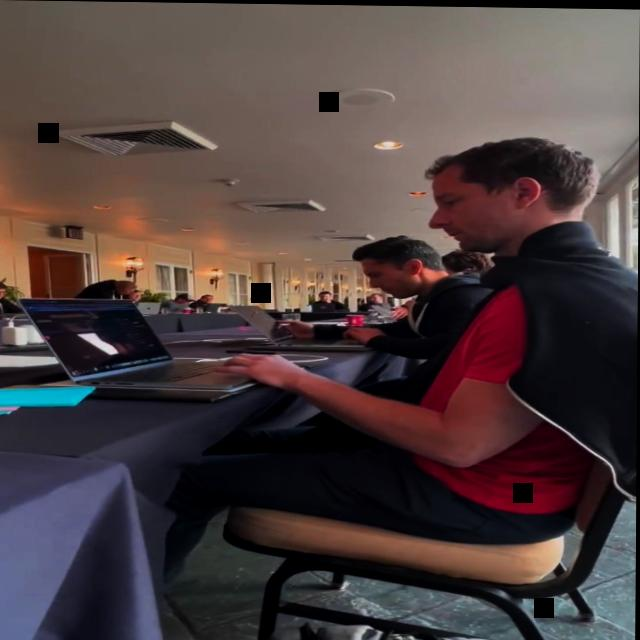NO-Mask: (427, 165, 524, 252), (361, 257, 413, 297), (371, 293, 381, 301), (319, 293, 329, 301), (203, 295, 213, 303), (131, 292, 140, 300), (120, 289, 132, 295), (0, 290, 6, 300), (180, 300, 190, 304)
